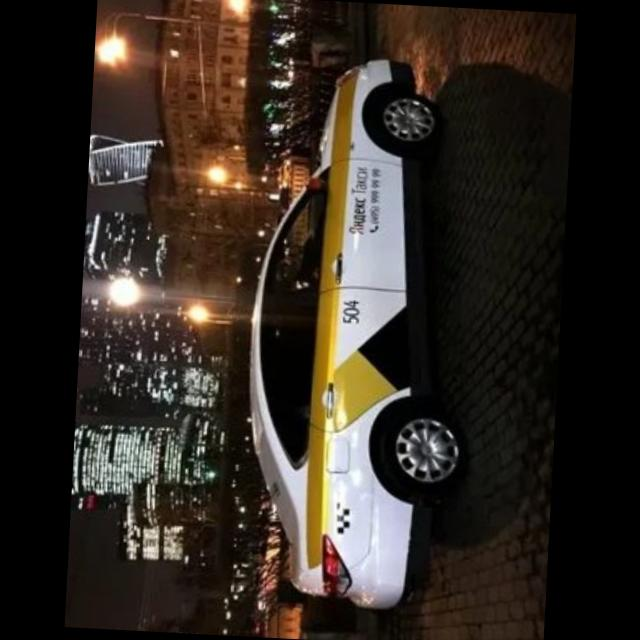taxi: (234, 52, 486, 616)
